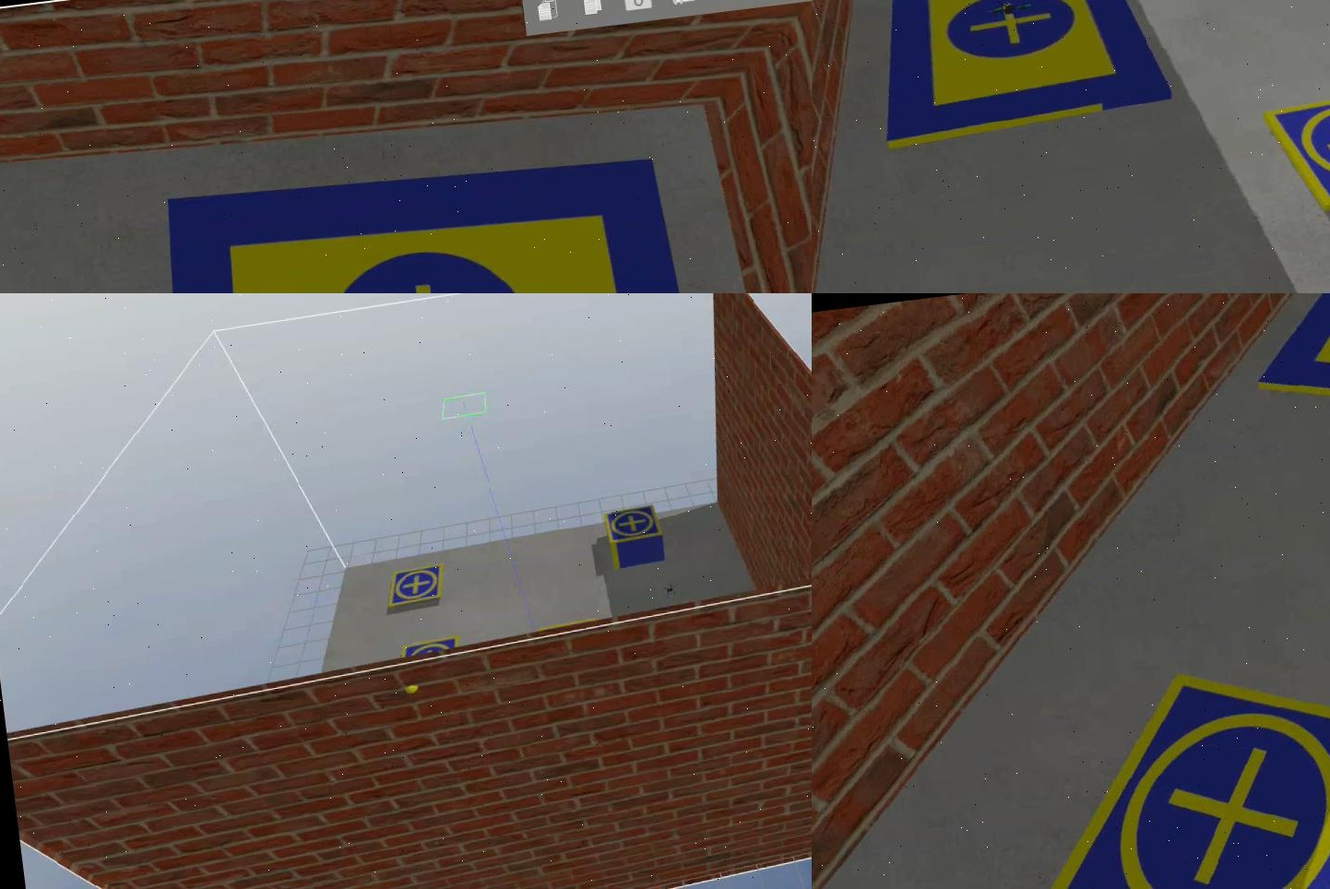large_base: (137, 136, 719, 293), (866, 1, 1175, 148), (1238, 293, 1328, 443)
small_base: (1008, 642, 1328, 889), (1263, 71, 1328, 220), (381, 562, 446, 612), (599, 502, 662, 547), (398, 635, 458, 660)
